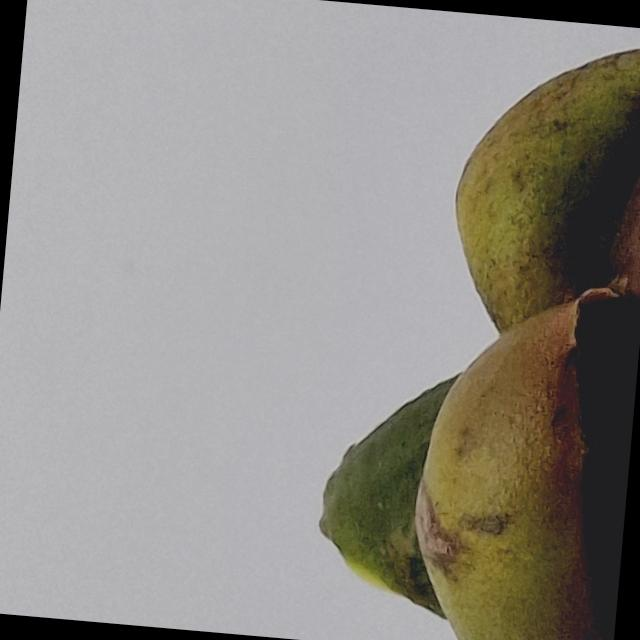mangosteen: (237, 0, 640, 640)
